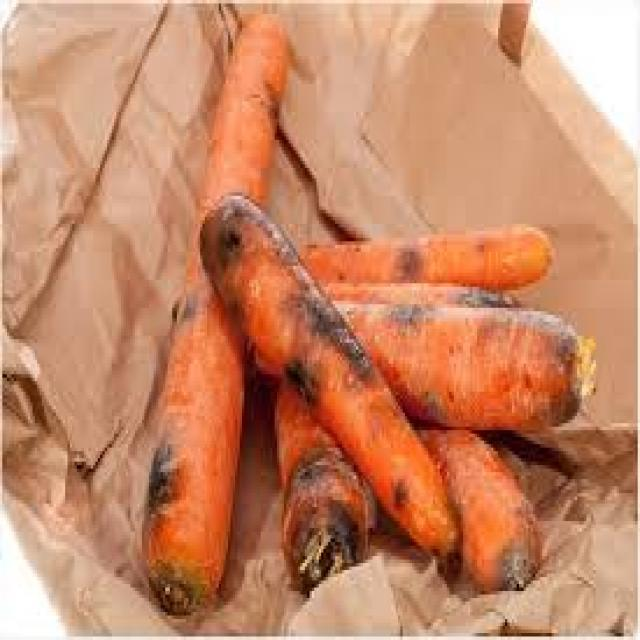organic waste: (198, 189, 463, 563), (144, 7, 286, 616), (326, 294, 593, 430), (266, 367, 372, 598), (417, 420, 542, 588), (282, 224, 549, 283), (312, 276, 521, 308)
